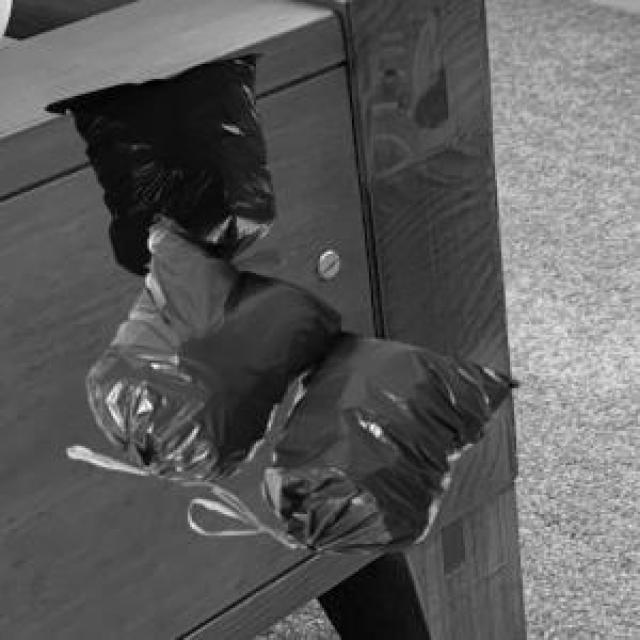miscellaneous trash: (64, 211, 514, 550), (43, 51, 280, 273)
